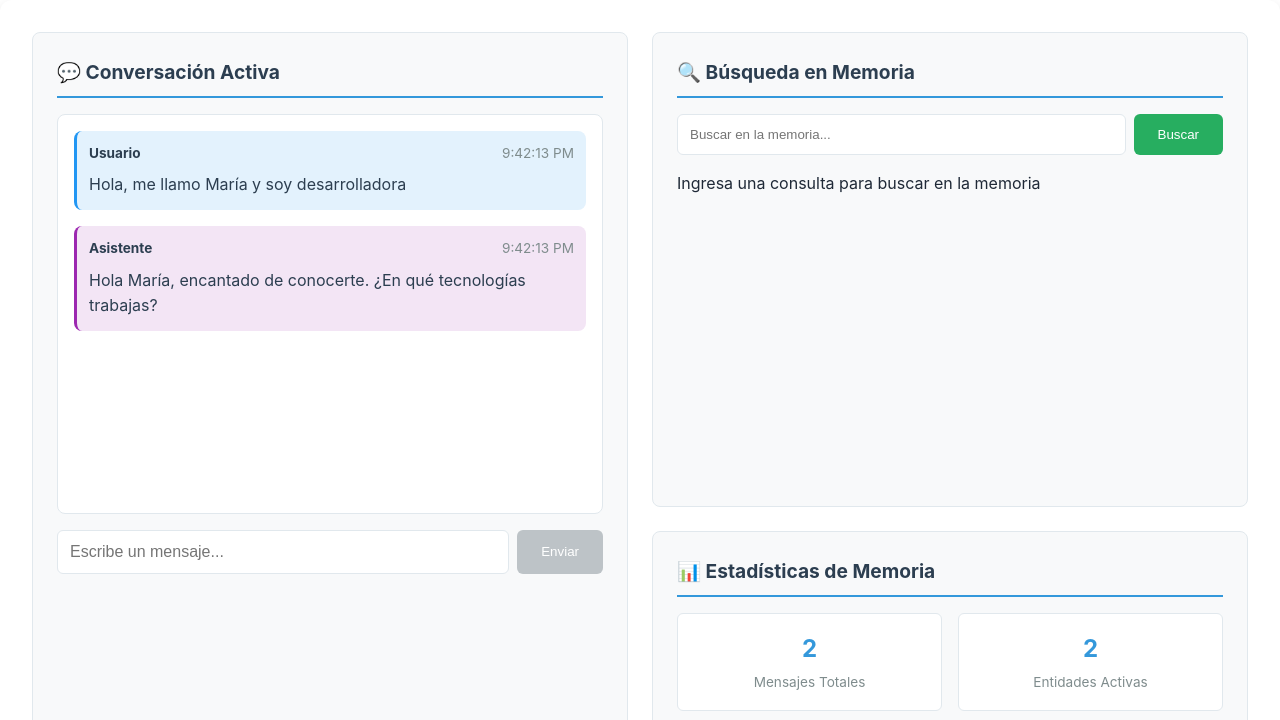
Test: Lesson03Implementation › LiveDemo Component › handles enter key for message input
Step 1. Type "Test message" into the field with placeholder "Escribe un mensaje..." → [283, 552], box [57,530,509,574]
Then press Enter
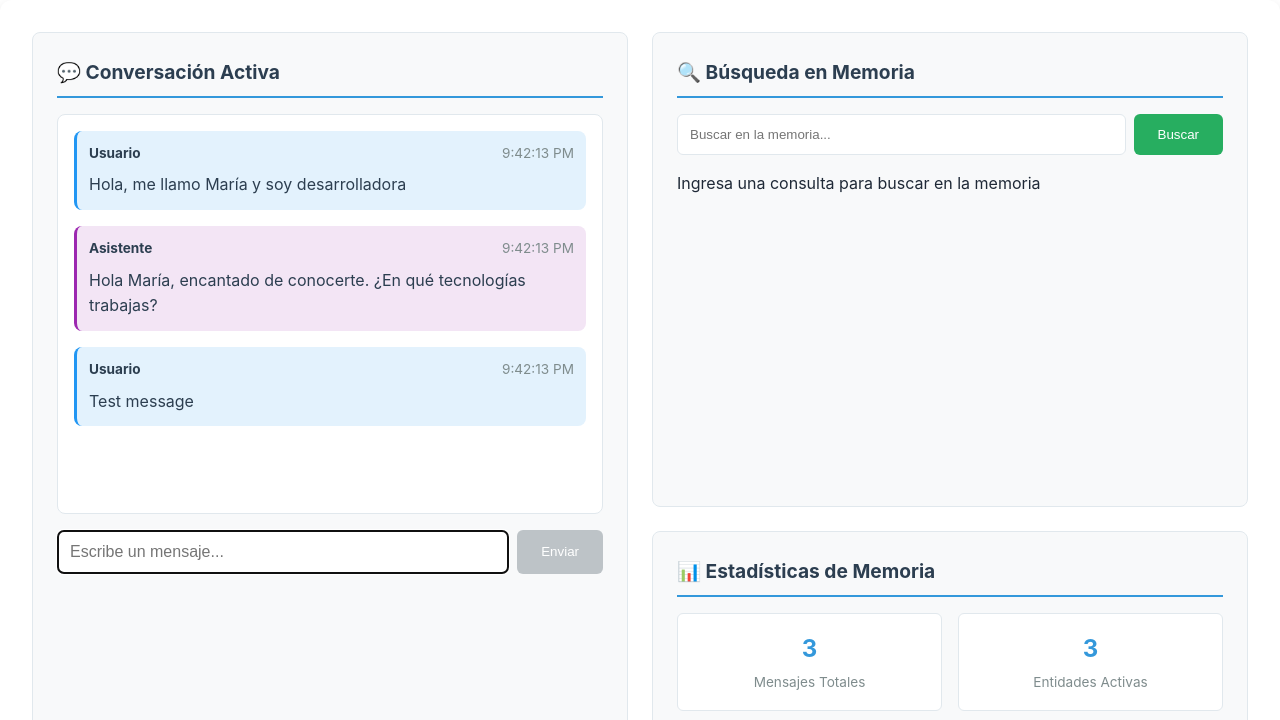
Expected: the text "Test message" is shown, [89,391,194,411]
